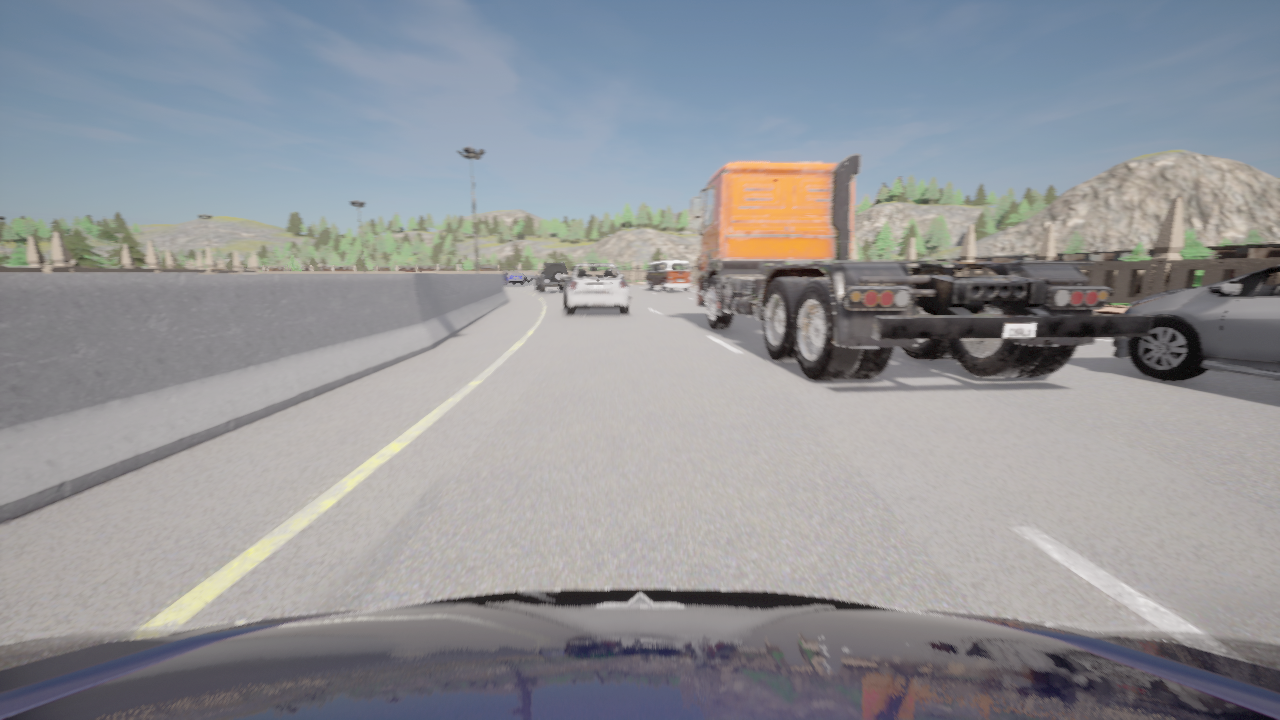cyclist: (0, 588, 1279, 719), (689, 155, 1152, 380), (1113, 266, 1279, 381), (561, 264, 629, 315), (645, 260, 691, 292), (534, 262, 567, 292), (501, 270, 523, 286), (522, 272, 536, 284)
